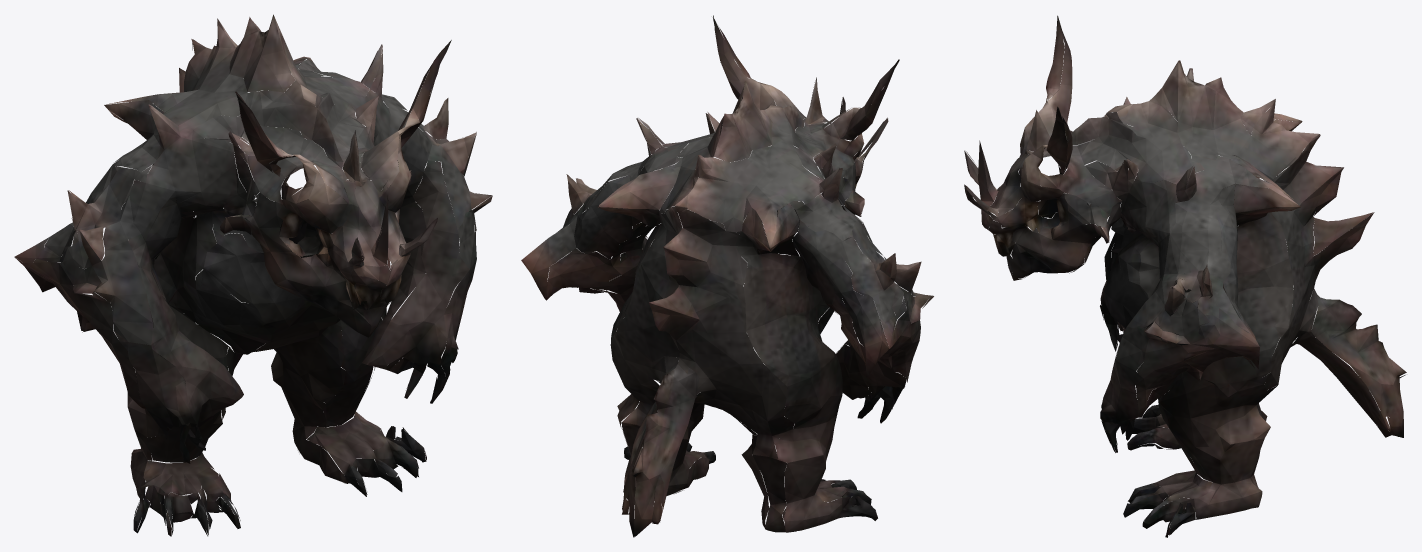
3 views of the same model, side by side, from view 1: azimuth 30°, elevation 25°; view 2: azimuth 150°, elevation 25°; view 3: azimuth 270°, elevation 25° (orthographic). The views are drawn at different scales.
Visible parts, largest first — view 1: world; view 2: world; view 3: world.
Part boxes in pixels (x1,y1,x2,y2): world: (14, 14, 492, 536); world: (521, 15, 933, 537); world: (964, 15, 1406, 537).
Size of the model in its own units: 0.9299 by 0.9999 by 0.9655.
Materials: 1 (1 with a texture image).
